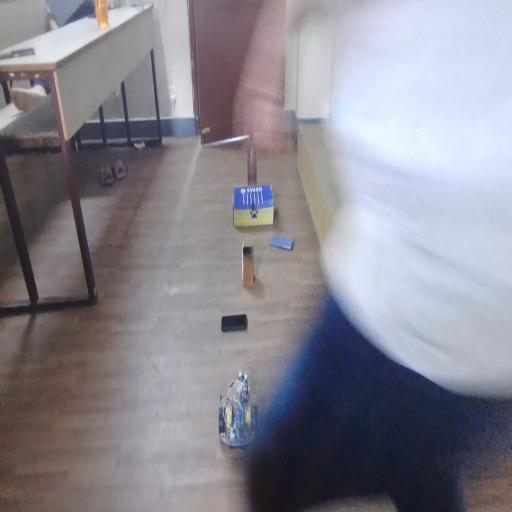Bottle: (242, 130, 266, 181)
car: (201, 383, 261, 441)
